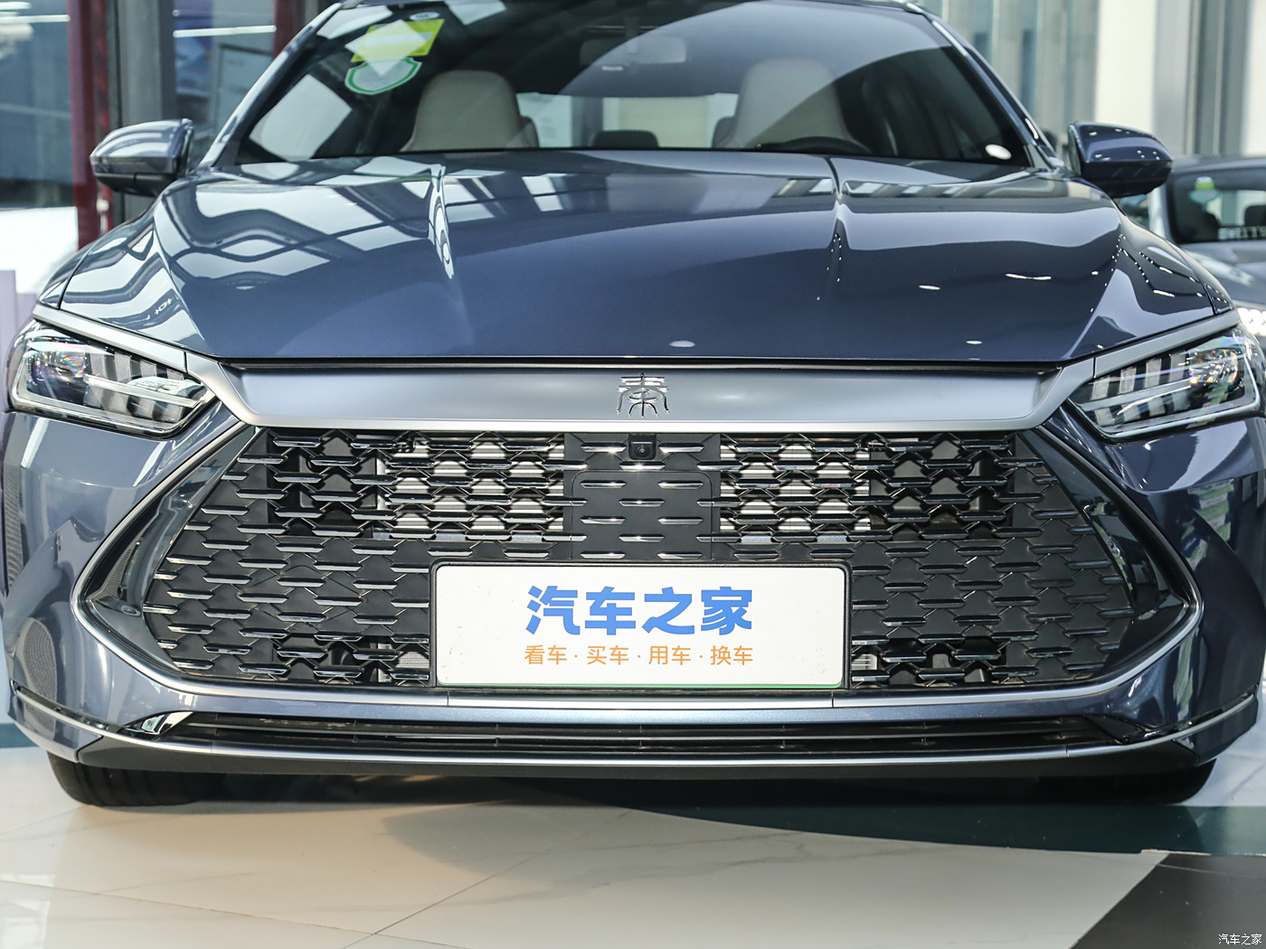BYD Qin: (618, 373, 668, 418)
